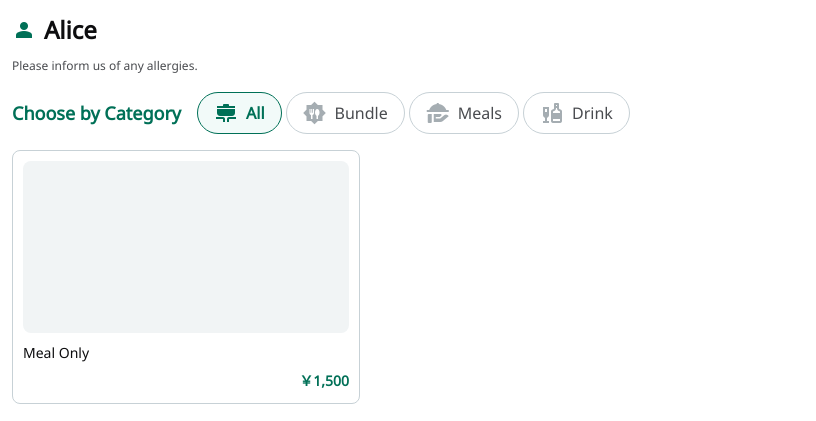
Test case: MealSelectionFlow › category filtering › shows no options available when filtering yields empty result
Click the button "Bundle".
click(345, 113)  # box x1=286 y1=92 x2=405 y2=134
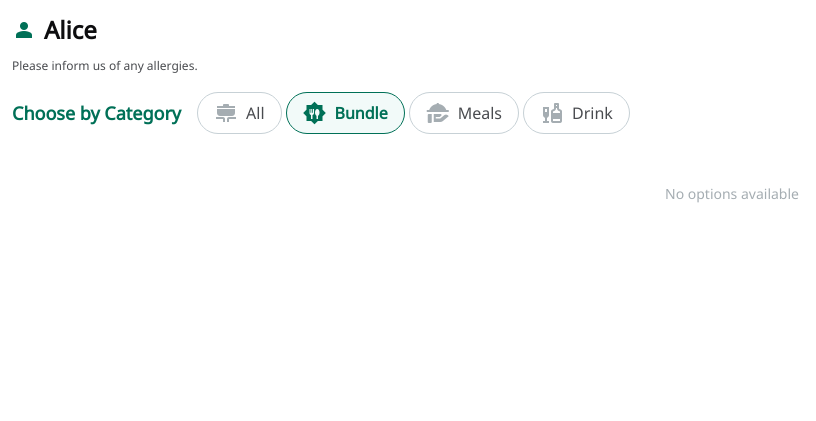
Expected: the text "No options available" is shown, x1=665 y1=182 x2=799 y2=206
